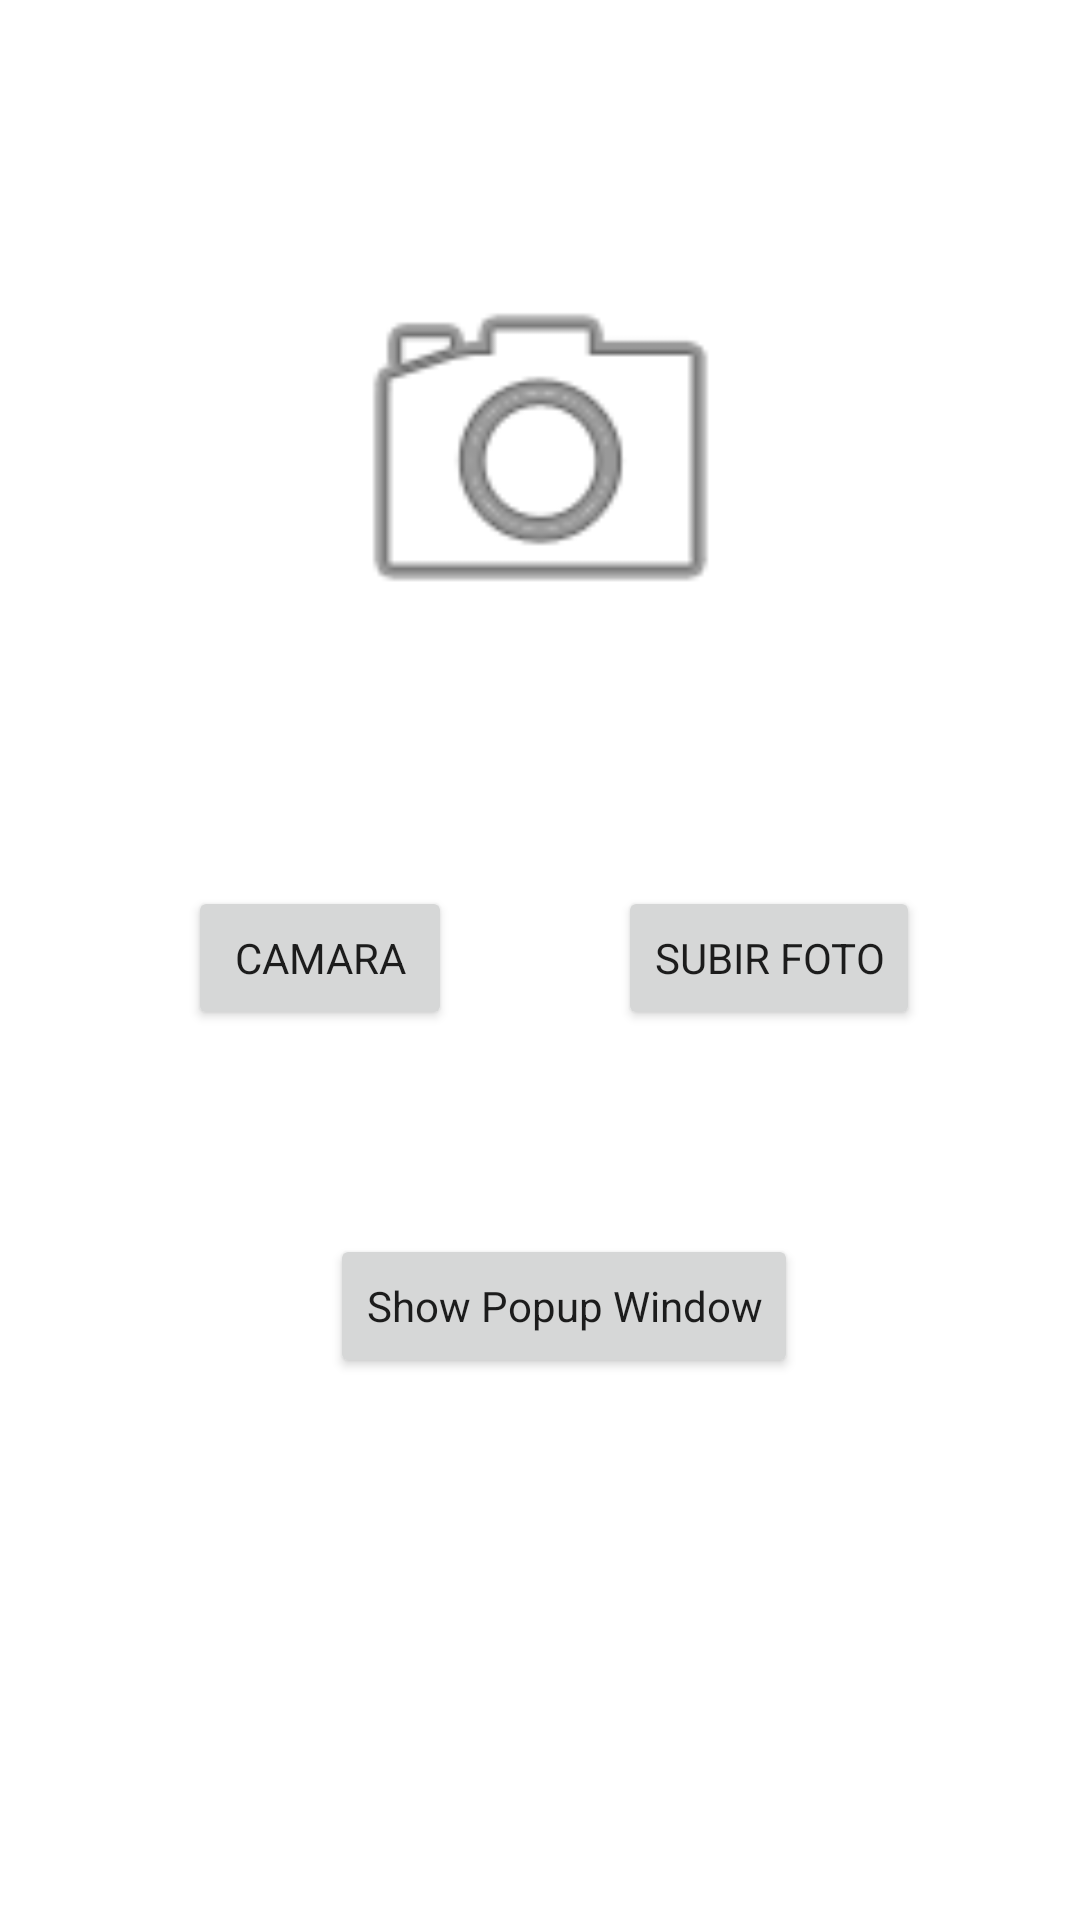

Named icons in this screenshot (1080px x 1920px) and their centers, [x,y]:
camera: [540,447]
